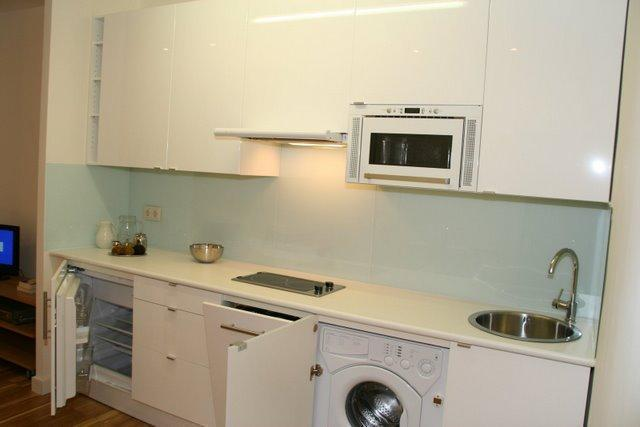Electrodomestico: (319, 312, 444, 426), (52, 262, 133, 399), (352, 108, 482, 189)
Lavaplatos: (478, 242, 590, 348)
